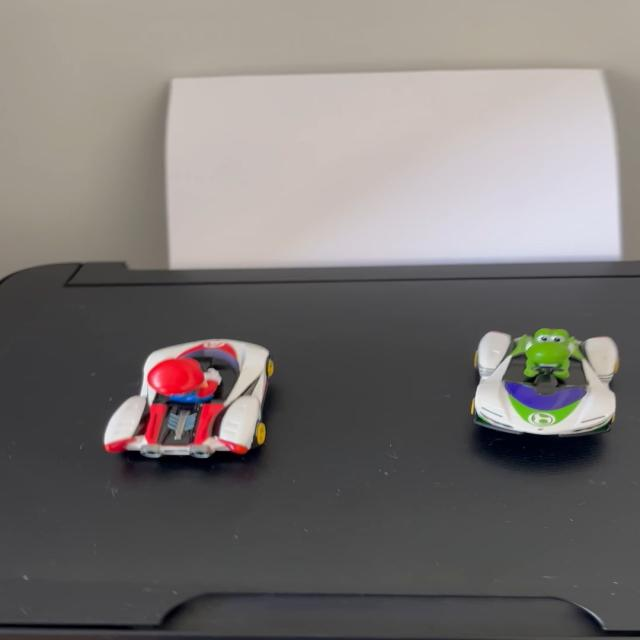mario: (86, 330, 288, 477)
yoshi: (460, 316, 634, 445)
